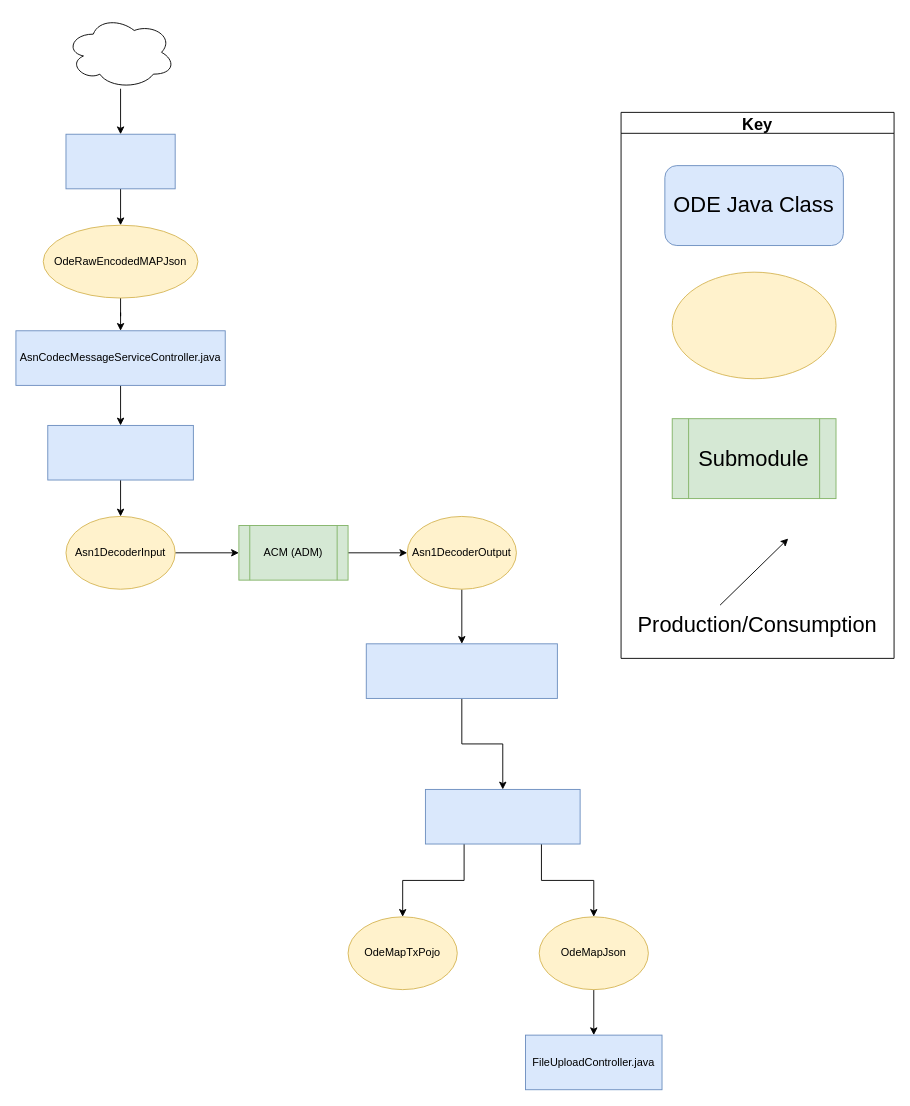
Image size: 910x1106. Some labels were removed from this diagram. The centre of each missing label's shape, as x and y in pixels:
"Asn1DecodedDataRouter.java" belongs at (x=502, y=816).
"Asn1DecodeTIMJSON.java" belongs at (x=120, y=452).
"AsnCodecRouterServiceController.java" belongs at (x=461, y=670).
"Kafka Topic" belongs at (x=753, y=325).
"MapReceiver.java" belongs at (x=120, y=161).
